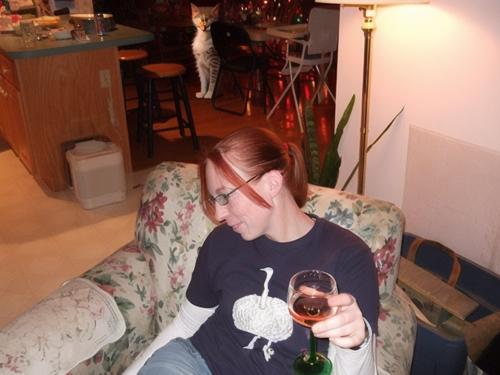cat: (189, 1, 223, 100)
chair: (2, 163, 419, 375), (266, 9, 337, 131), (213, 25, 273, 113), (149, 5, 196, 89)
person: (124, 126, 380, 375)
person/hand: (299, 285, 366, 346)
person/head: (203, 125, 298, 241)
pottedplant: (304, 95, 405, 190)
